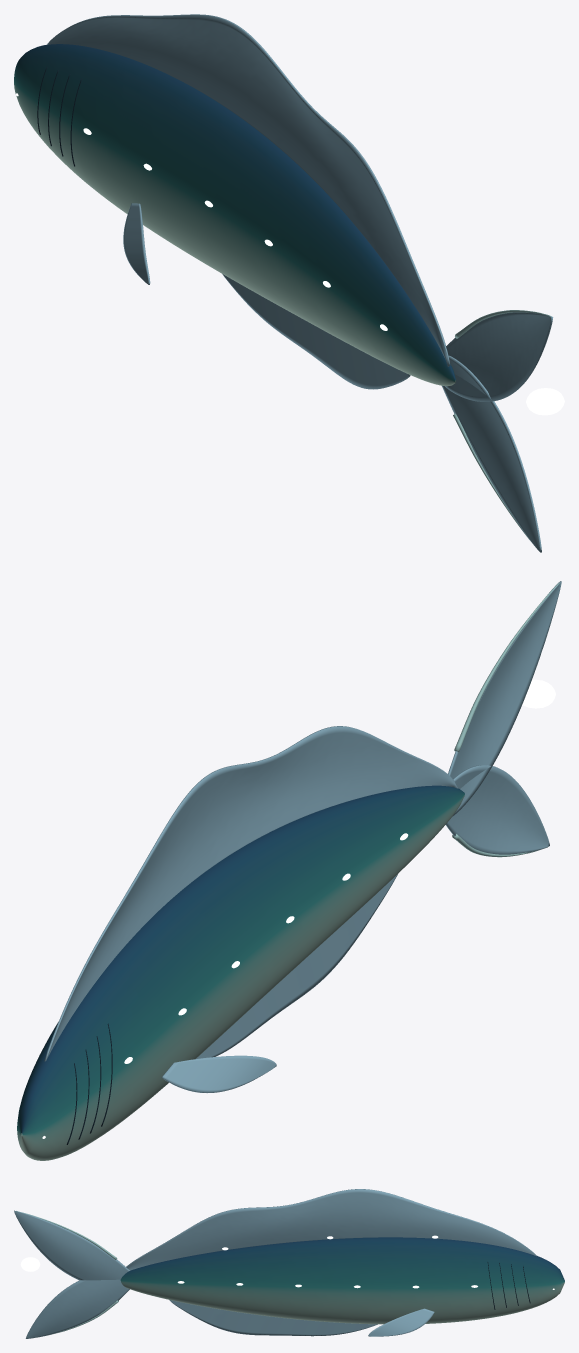
The picture shows the model from 3 angles, top to bottom: view 1: azimuth 30°, elevation 25°; view 2: azimuth 150°, elevation 25°; view 3: azimuth 270°, elevation 25°; orthographic projection. The views are drawn at different scales.
Parts seen in each view (by area): view 1: RIMWARD_HULL, RIMWARD_ENGINE_GLOW; view 2: RIMWARD_HULL, RIMWARD_ENGINE_GLOW; view 3: RIMWARD_HULL, RIMWARD_ENGINE_GLOW.
Boxes of the visible parts, x1,y1,x2,y2 form: RIMWARD_HULL: (14,14,553,552); RIMWARD_ENGINE_GLOW: (526,388,564,415); RIMWARD_HULL: (17,581,561,1160); RIMWARD_ENGINE_GLOW: (522,679,555,708); RIMWARD_HULL: (14,1189,564,1338); RIMWARD_ENGINE_GLOW: (20,1257,40,1271).
Size of the model in its own units: 1.29 by 2.39 by 7.8.
